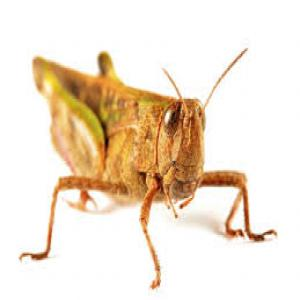locust: (38, 35, 243, 256)
